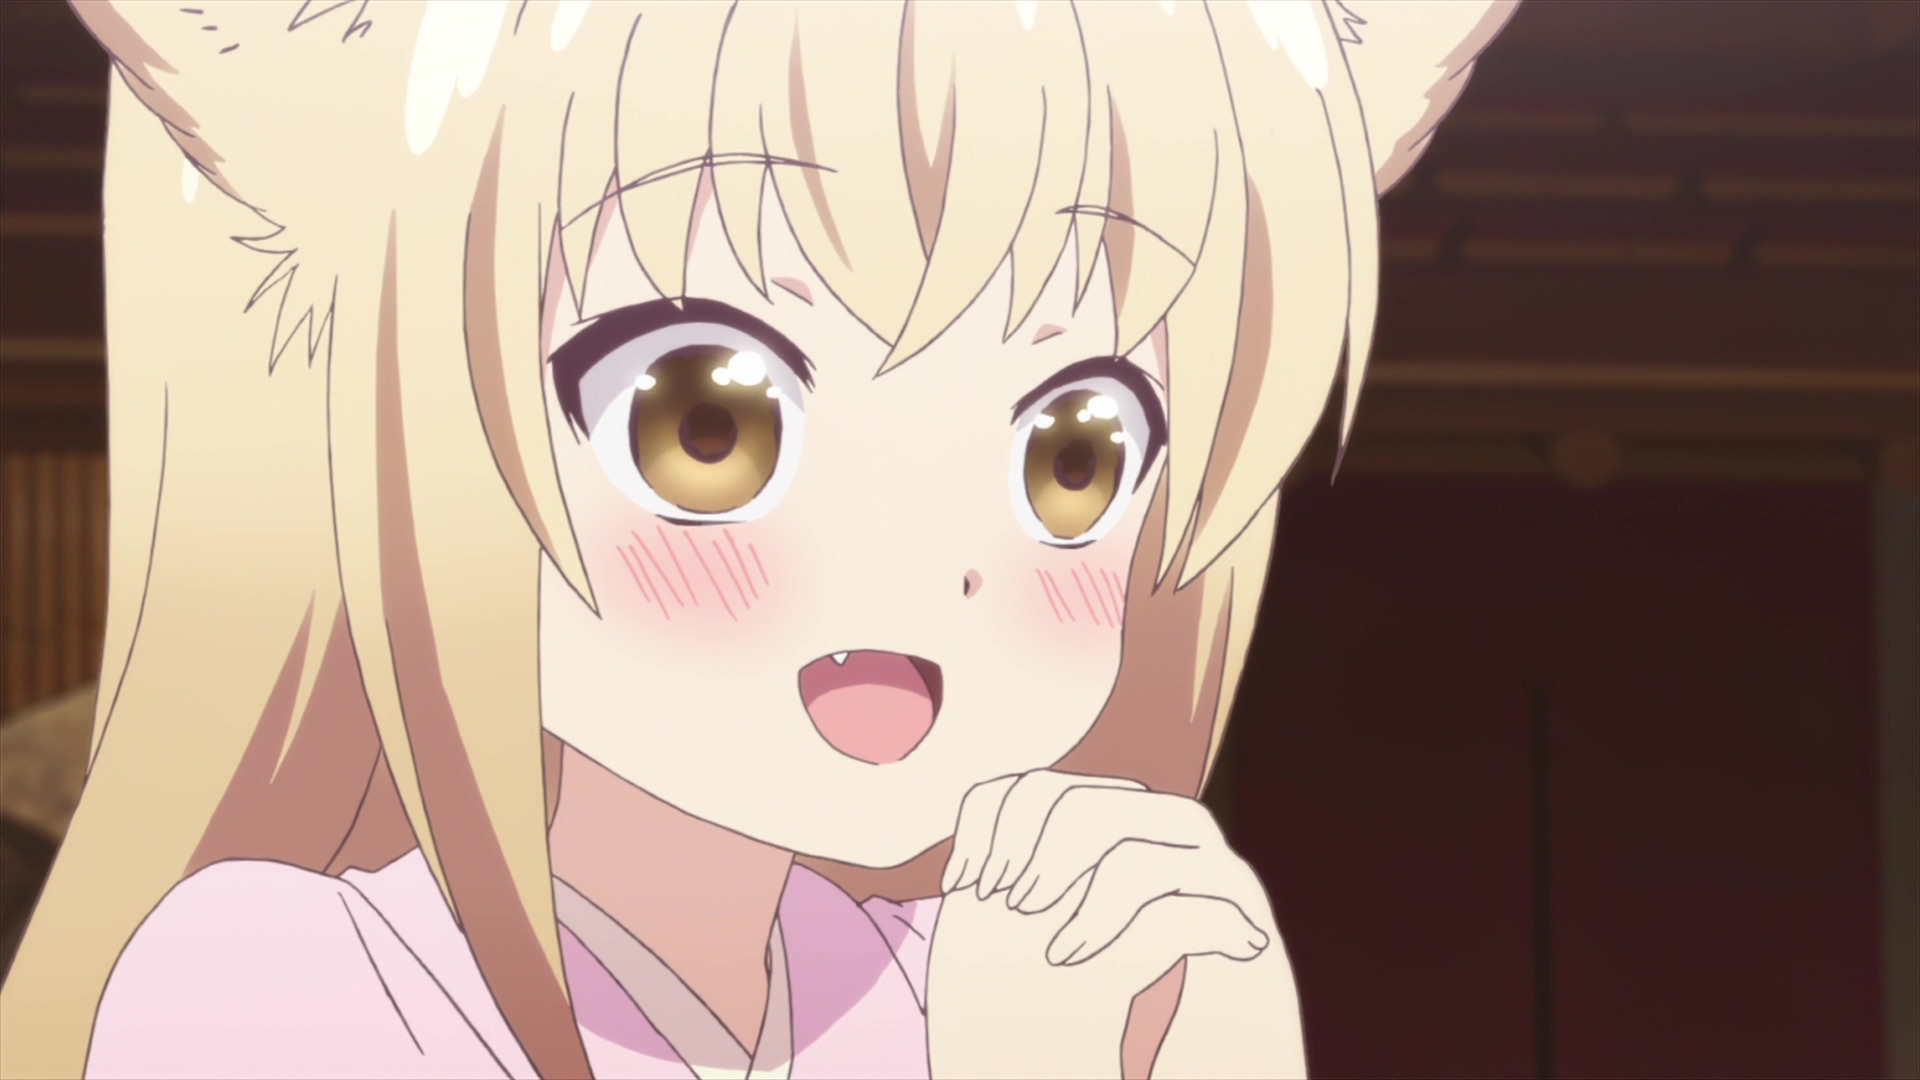柚: (1, 1, 1524, 1080)
